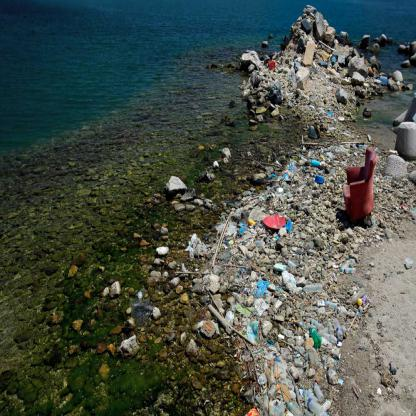Garbage: (214, 25, 393, 414)
